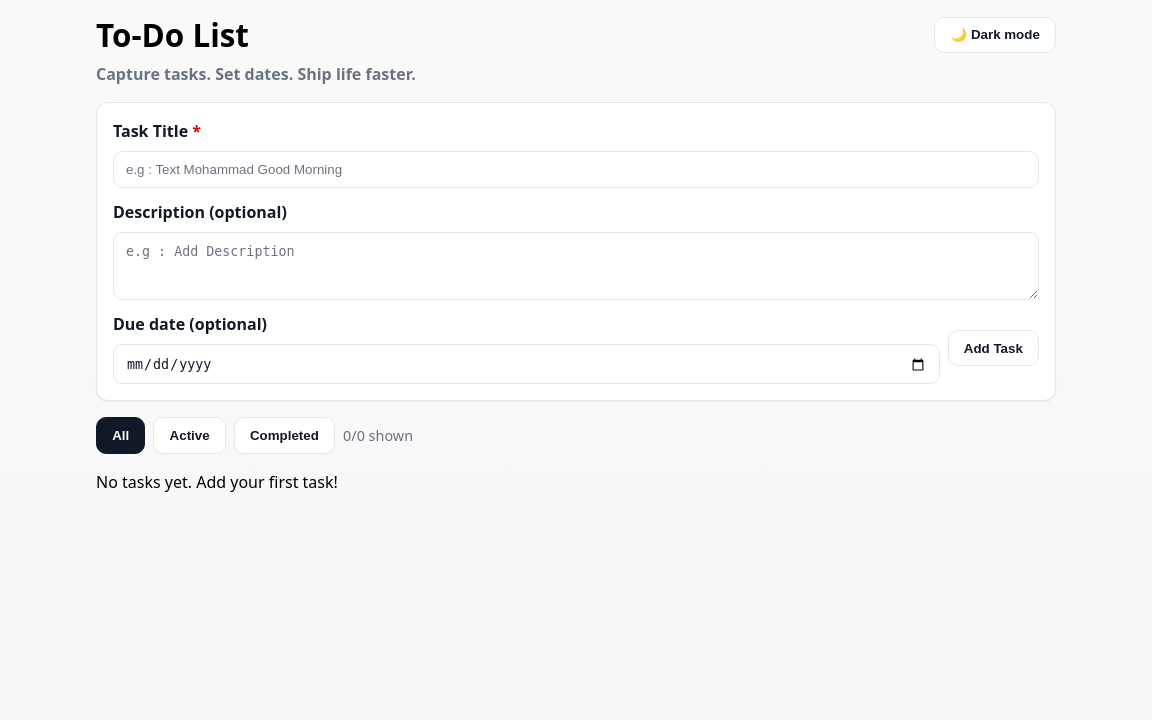
Test: dark mode toggle adds and removes the "dark" class on root
// Turn on dark mode
What coordinates should you click on to do the following:
click the button "🌙 Dark mode"
I would click on:
 (995, 35)
Its box is [934,17,1056,53].
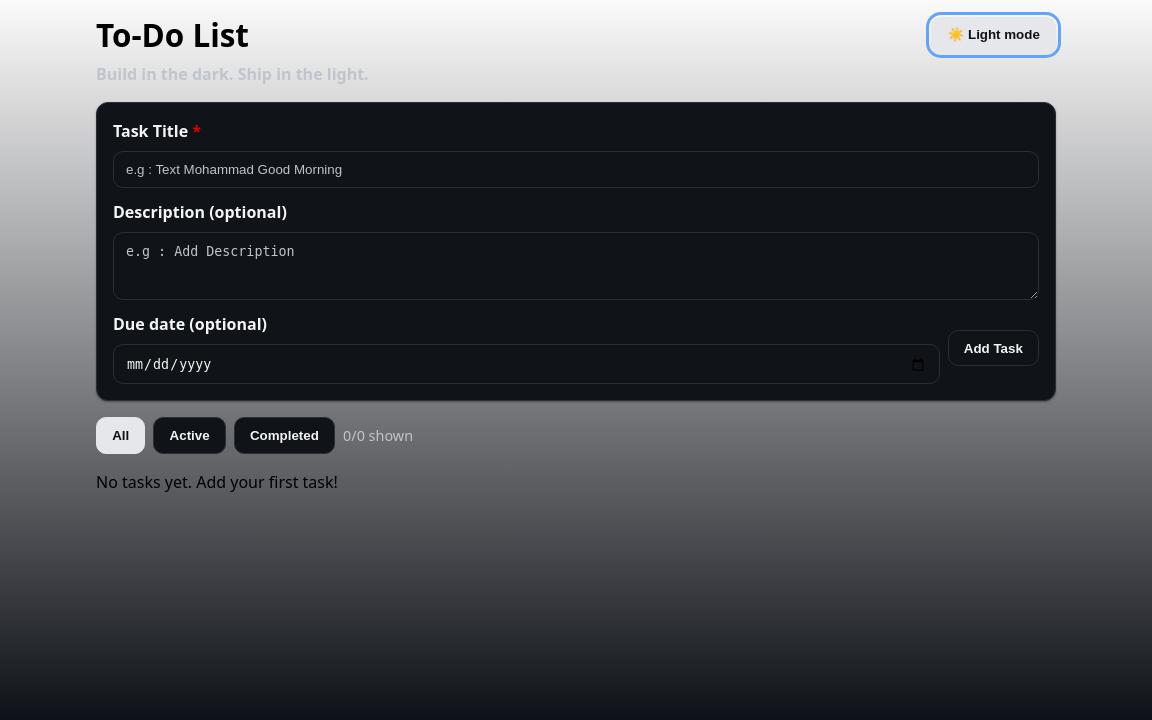
Expected: the button with aria-label "dark mode" shows "Light mode"
// Turn it back off
What coordinates should you click on to do the following:
click the button with aria-label "dark mode"
I would click on:
 (994, 35)
Its box is [932,17,1056,53].
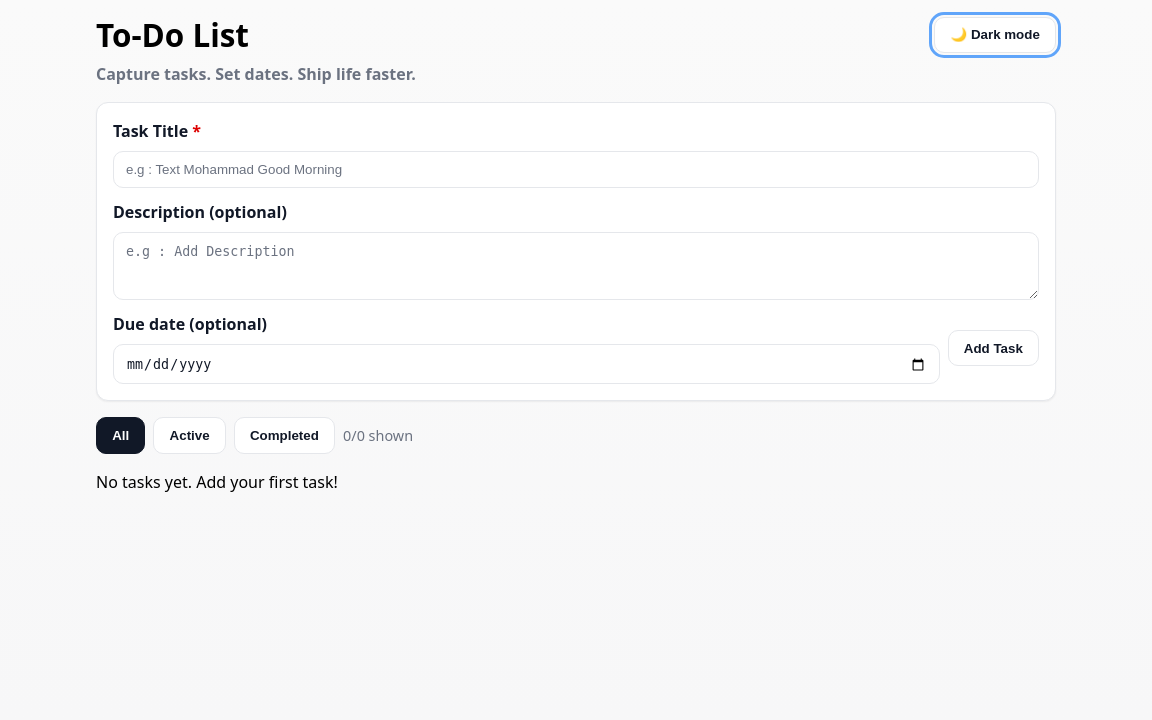
Expected: the button "🌙 Dark mode" is shown, [934,17,1056,53]
